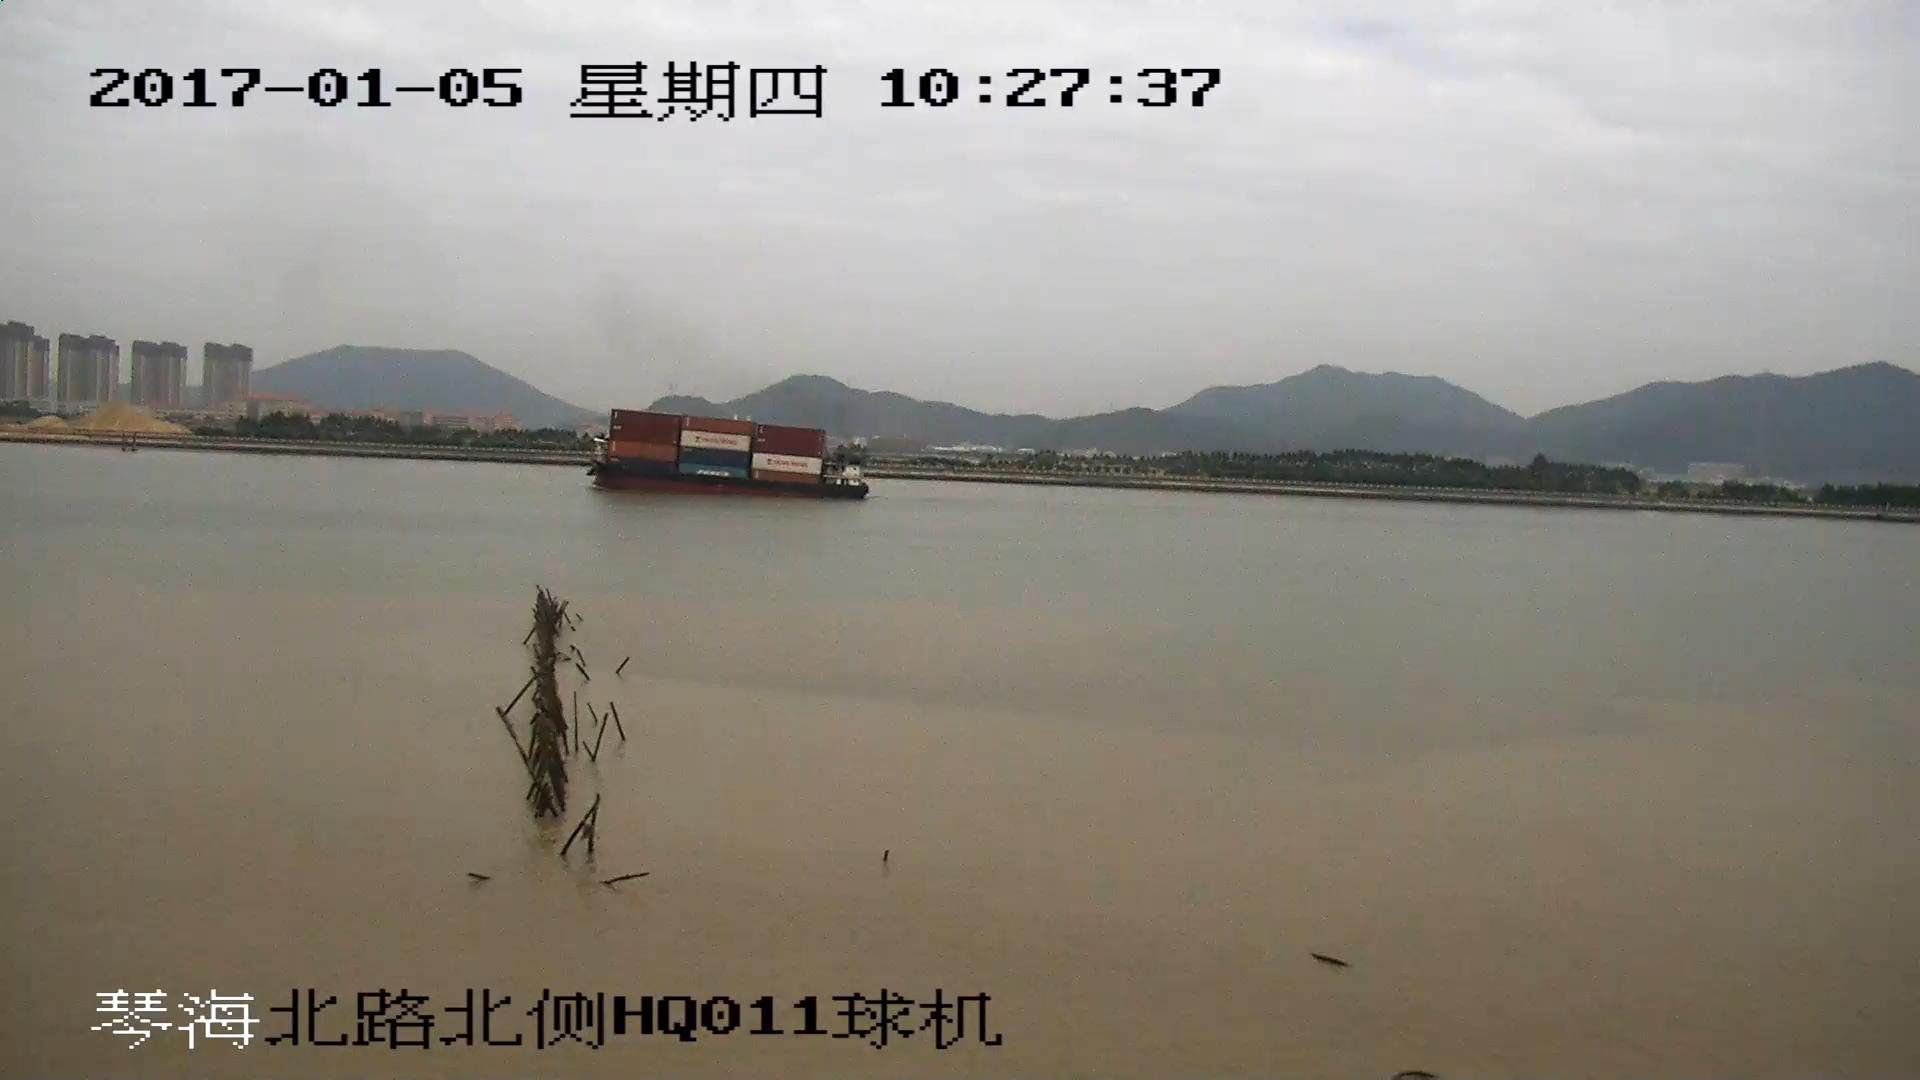container ship: (588, 408, 867, 498)
